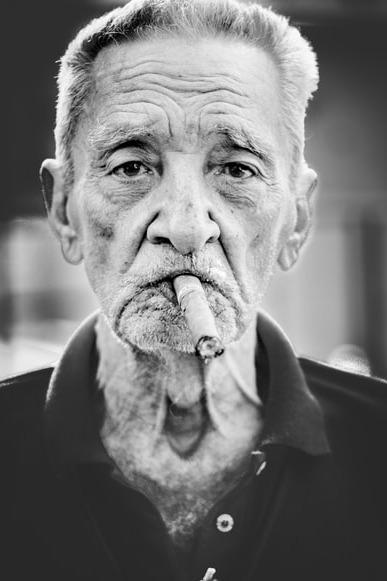Wrinkles: (121, 101, 172, 136), (148, 81, 248, 97), (102, 61, 190, 78), (123, 89, 180, 108), (117, 73, 209, 82), (211, 114, 255, 123), (199, 102, 244, 110), (217, 74, 245, 83), (197, 113, 200, 142)
